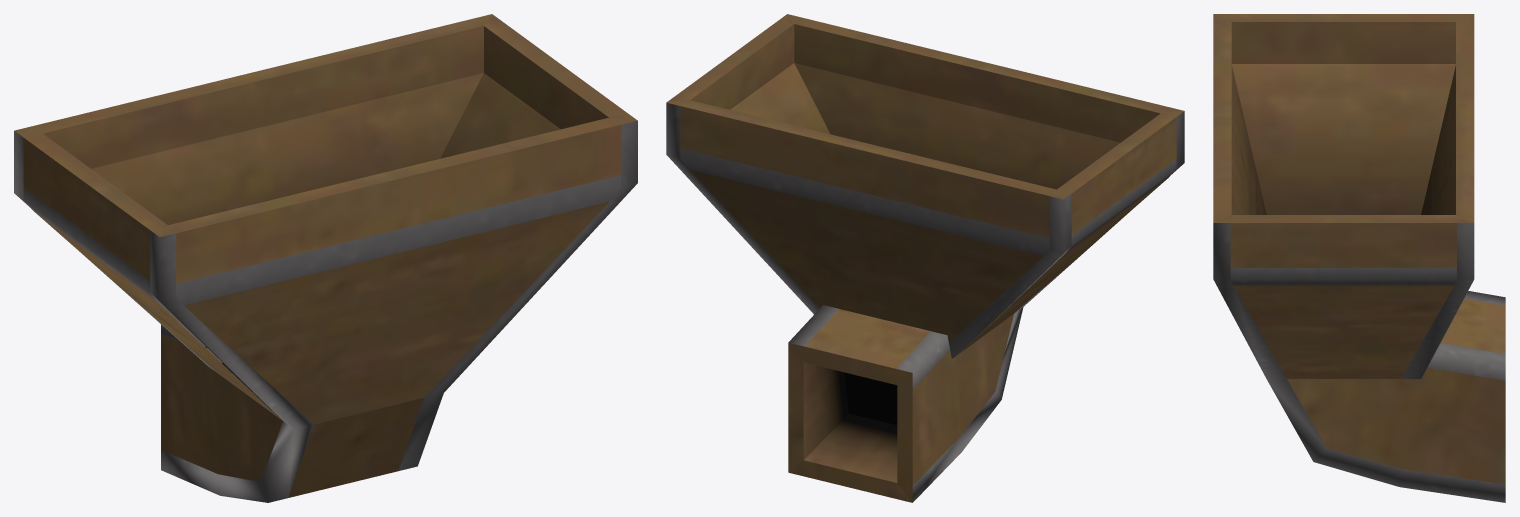
Rendered from HopperSide.fbx.
3 views of the same model, side by side, from view 1: azimuth 30°, elevation 25°; view 2: azimuth 150°, elevation 25°; view 3: azimuth 270°, elevation 25° (orthographic). The views are drawn at different scales.
Parts seen in each view (by area): view 1: Hopper.001; view 2: Hopper.001; view 3: Hopper.001.
Part boxes in pixels (x1,y1,x2,y2): Hopper.001: [14, 14, 637, 502]; Hopper.001: [666, 14, 1184, 502]; Hopper.001: [1213, 14, 1505, 502].
Bounding box in the file's own units: 1.6 × 1.25 × 0.9445.
